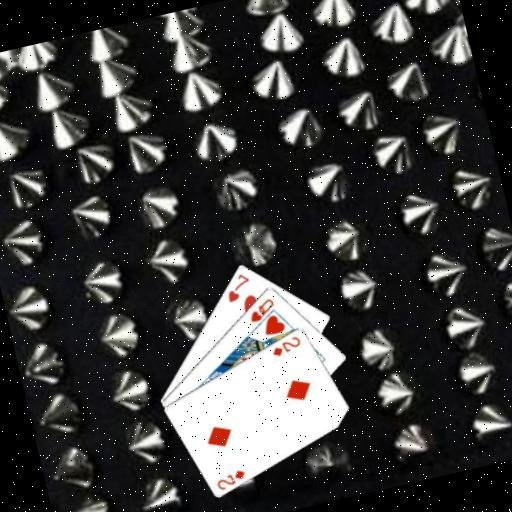2D: (211, 465, 249, 493), (267, 332, 305, 359)
7H: (220, 269, 255, 305)
QH: (243, 294, 279, 325)
